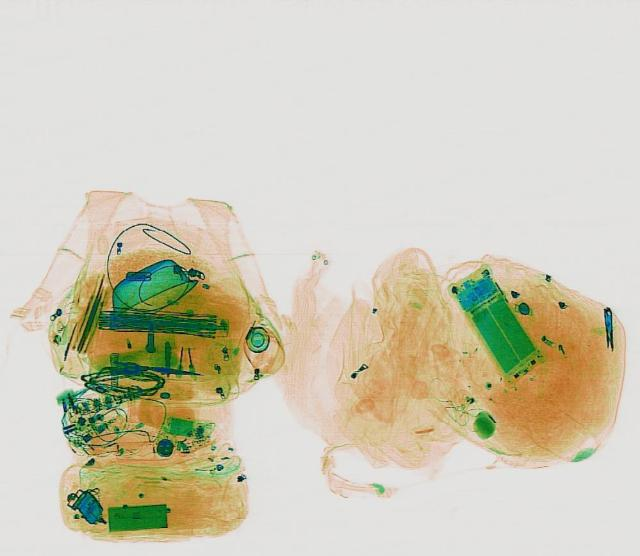Knife: (108, 356, 202, 379)
Scissors: (602, 304, 612, 347)
